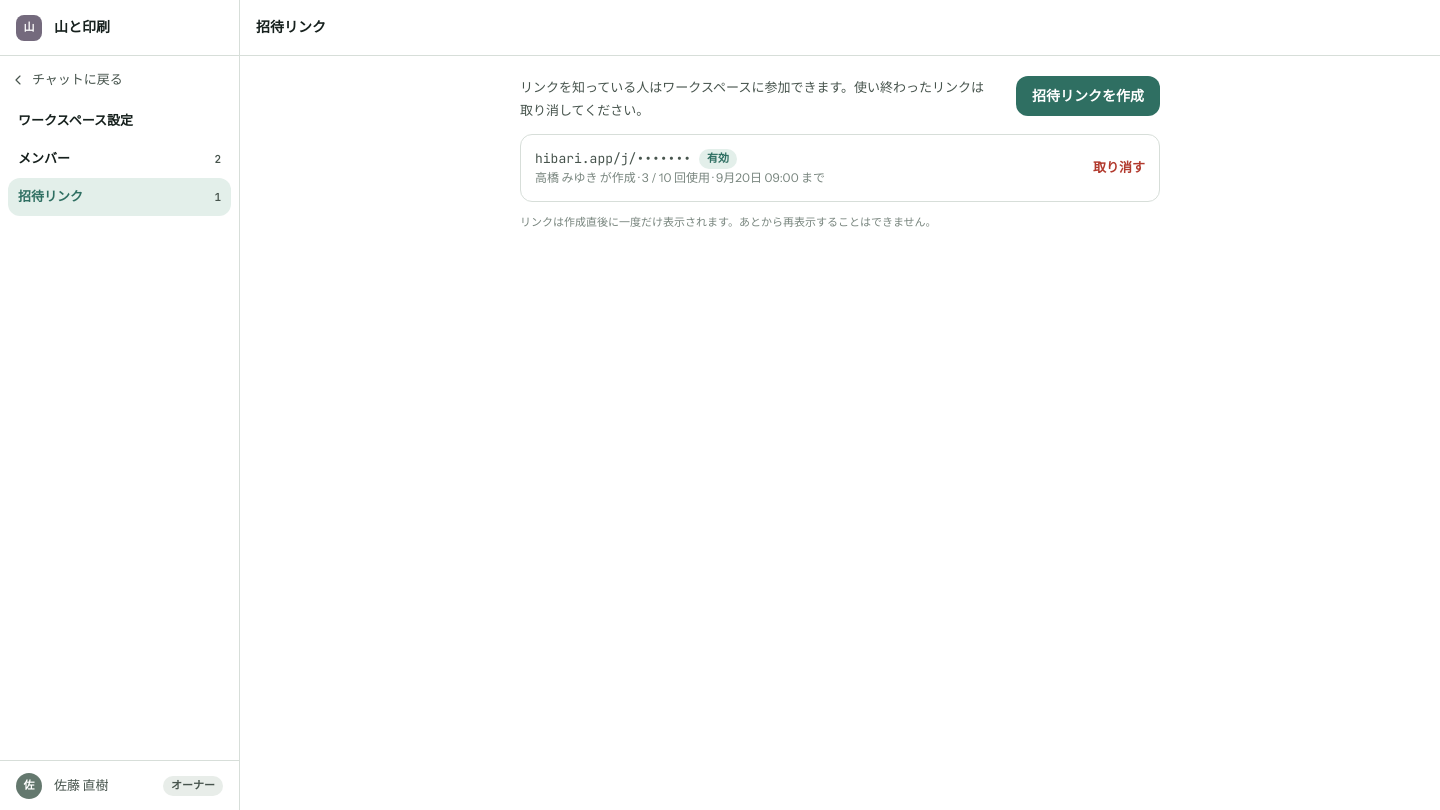
Test: the workspace admin screens › invites › revokes a link
Click the button "取り消す". click: {"x": 1119, "y": 168}
box: [1093,158,1145,177]
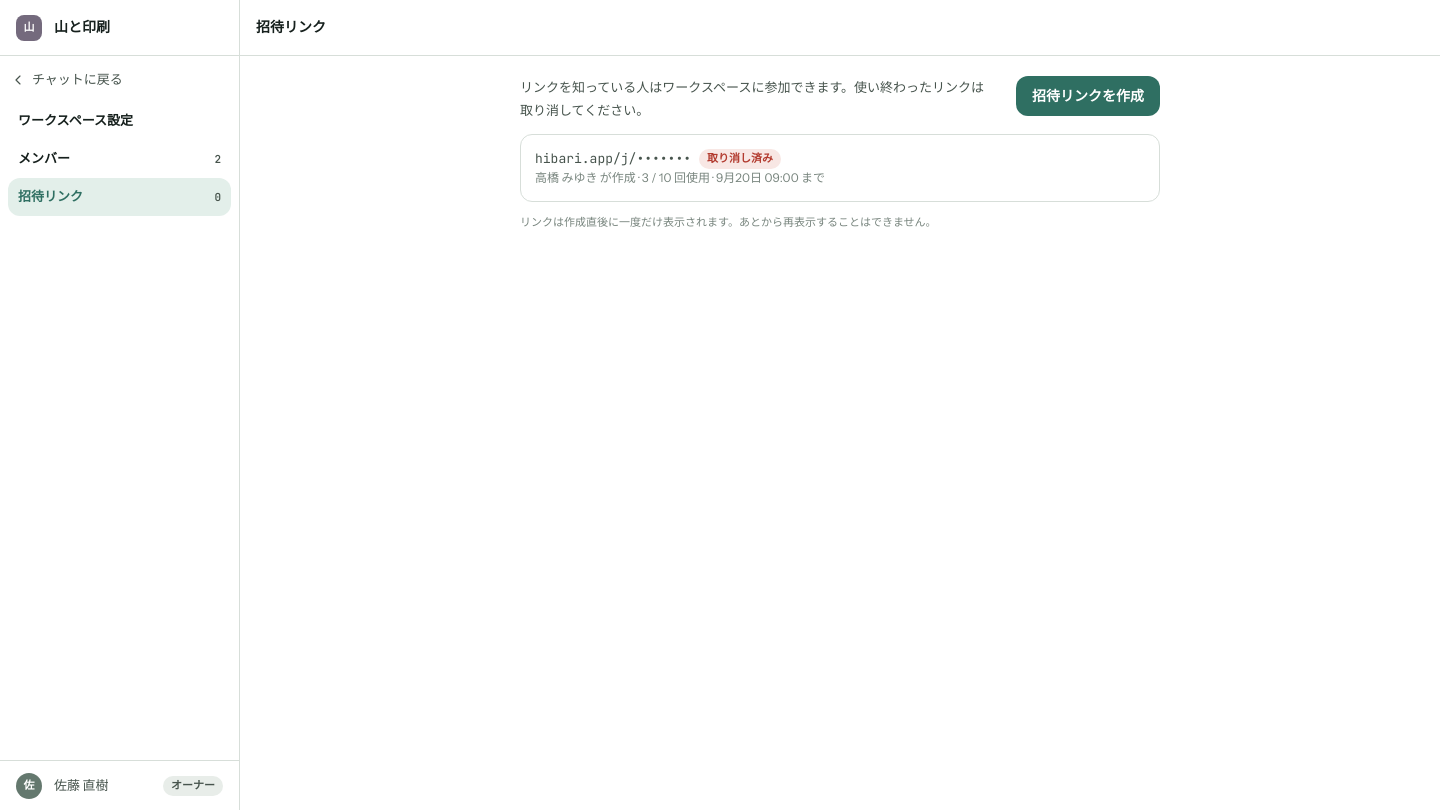
Expected: the text "取り消し済み" is shown, [699,148,781,168]
Expected: the button "取り消す" is gone
